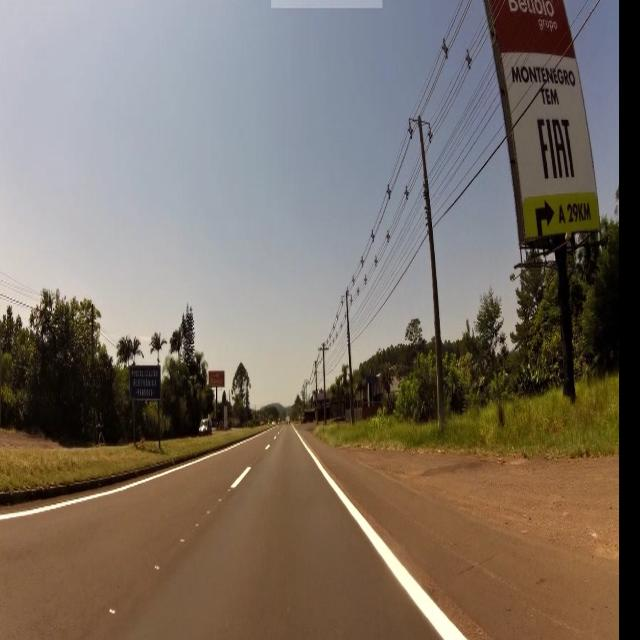LOC-6: (132, 361, 161, 401)
